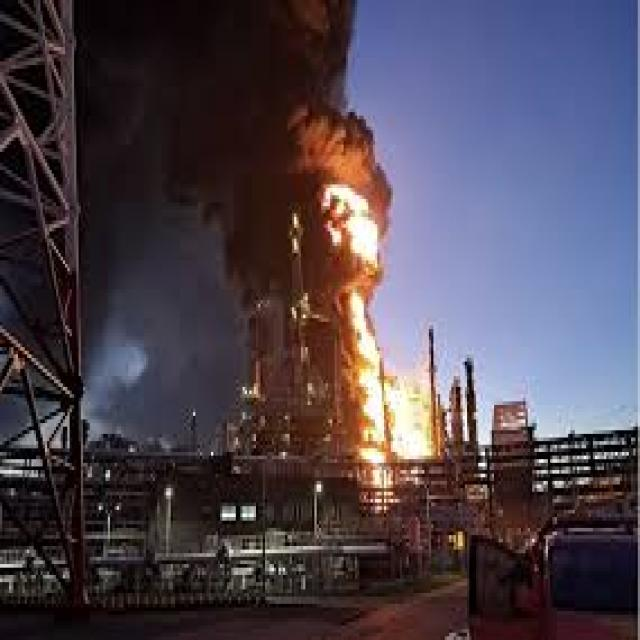explosion: (90, 5, 477, 530)
